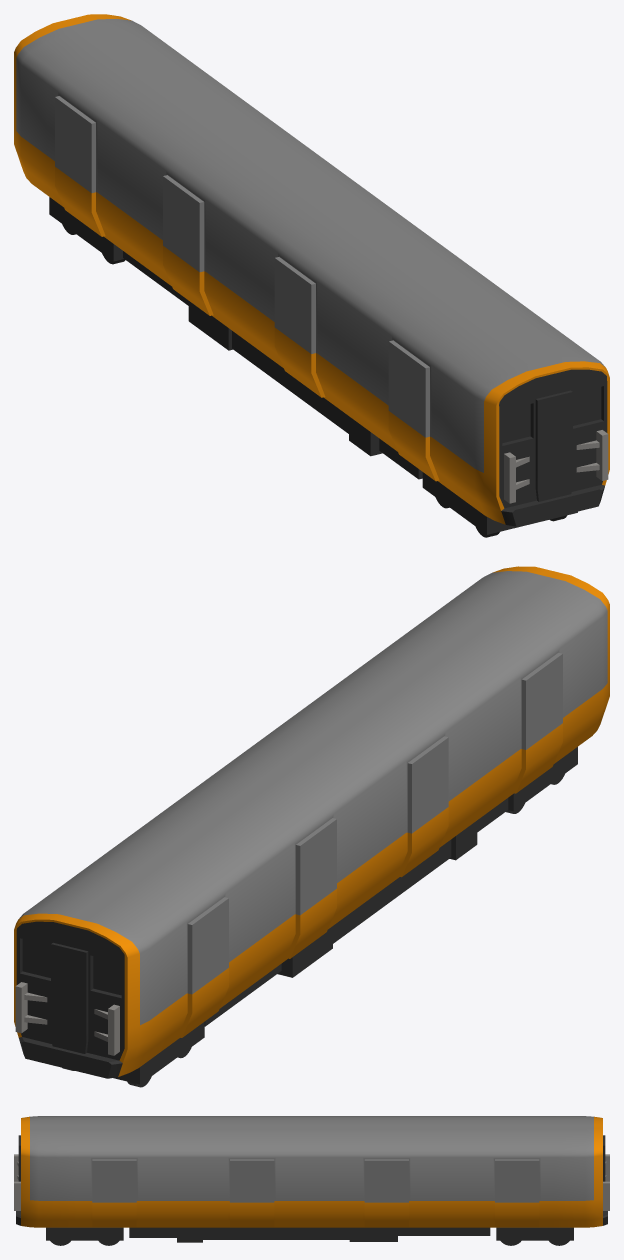
Rendered from orangeline.fbx.
3 renders of one model, top to bottom at view 1: azimuth 30°, elevation 25°; view 2: azimuth 150°, elevation 25°; view 3: azimuth 270°, elevation 25°, orthographic. The views are drawn at different scales.
Parts seen in each view (by area): view 1: Cube.005, Cylinder.005, Cube.008; view 2: Cube.005, Cylinder.005, Cube.008; view 3: Cube.005, Cylinder.005, Cube.008.
Boxes of the visible parts, x1=… form: Cube.005: x1=14, y1=14, x2=609, y2=526; Cylinder.005: x1=49, y1=197, x2=577, y2=537; Cube.008: x1=504, y1=430, x2=608, y2=503; Cube.005: x1=14, y1=566, x2=609, y2=1078; Cylinder.005: x1=62, y1=747, x2=577, y2=1087; Cube.008: x1=15, y1=982, x2=119, y2=1055; Cube.005: x1=16, y1=1116, x2=607, y2=1242; Cylinder.005: x1=46, y1=1227, x2=573, y2=1245; Cube.008: x1=14, y1=1154, x2=609, y2=1210.
Bounding box in the file's own units: 473 × 590 × 2952.
